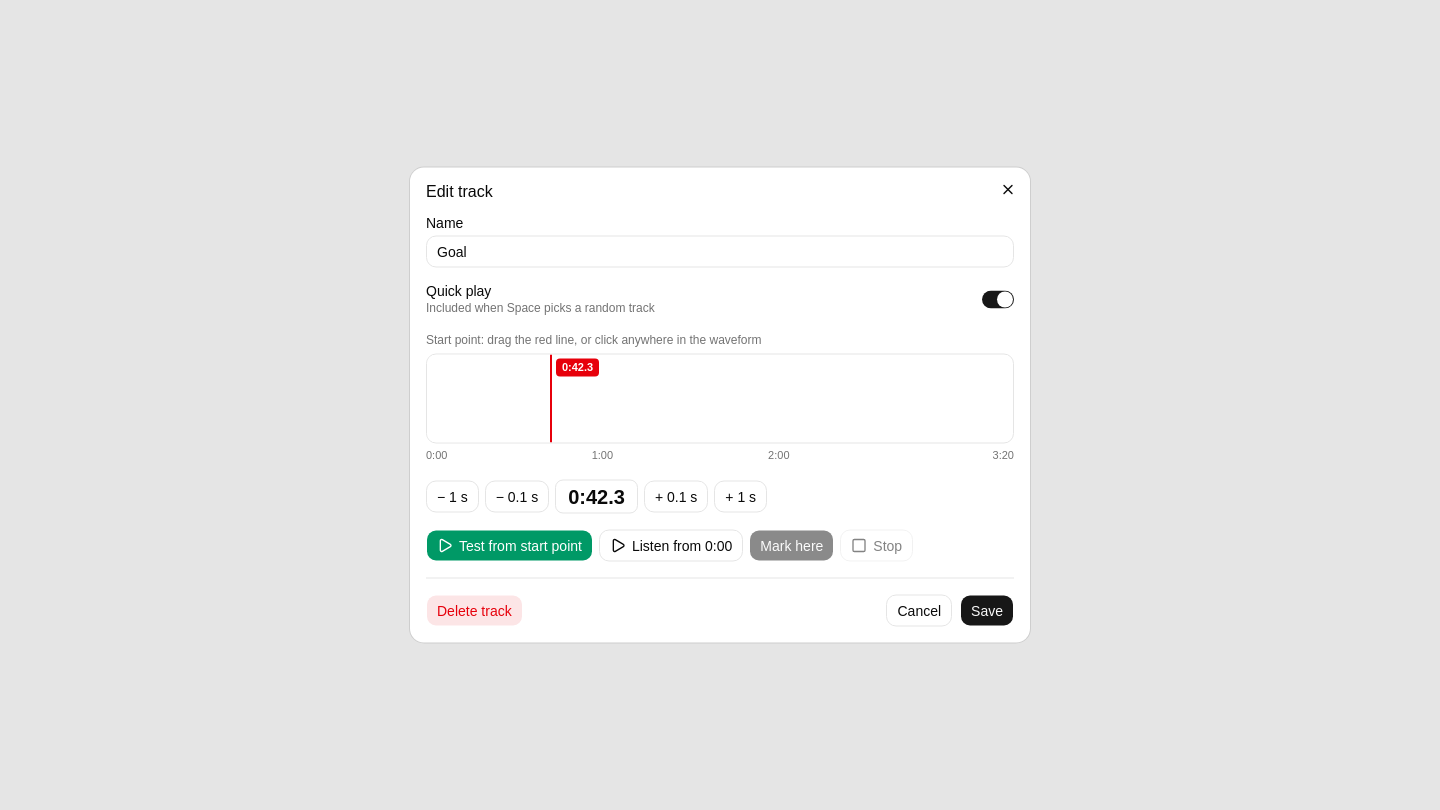
it: if the waveform cannot be decoded, every other control still works
Later steps or results of the test are not shown.
Expected: the element with test id "waveform" is shown, [426, 354, 1014, 444]
Click the button "+ 1 s" at (741, 496), box [714, 480, 767, 512]
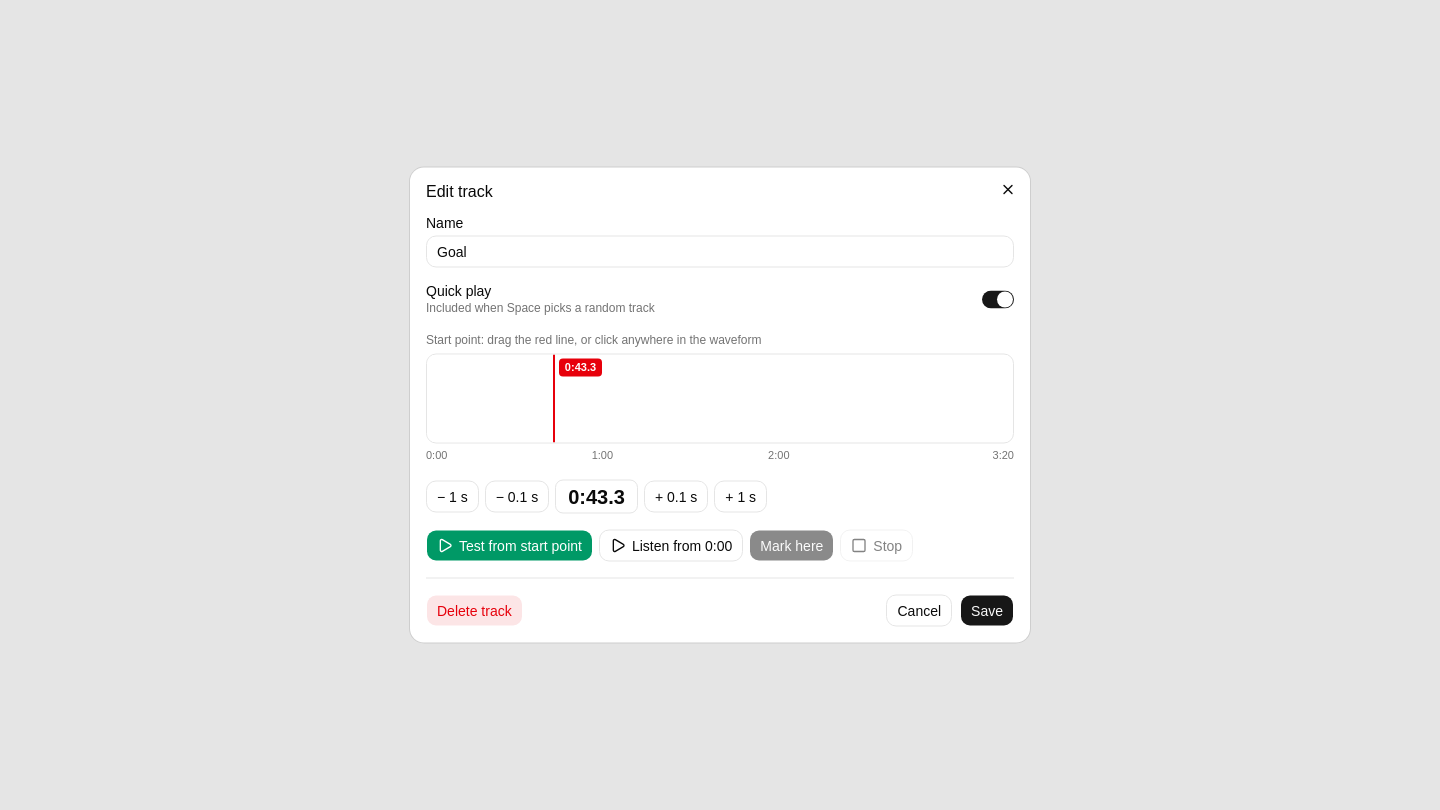
Now the text named "Start point" reads "0:43.3", box [568, 486, 625, 508]
